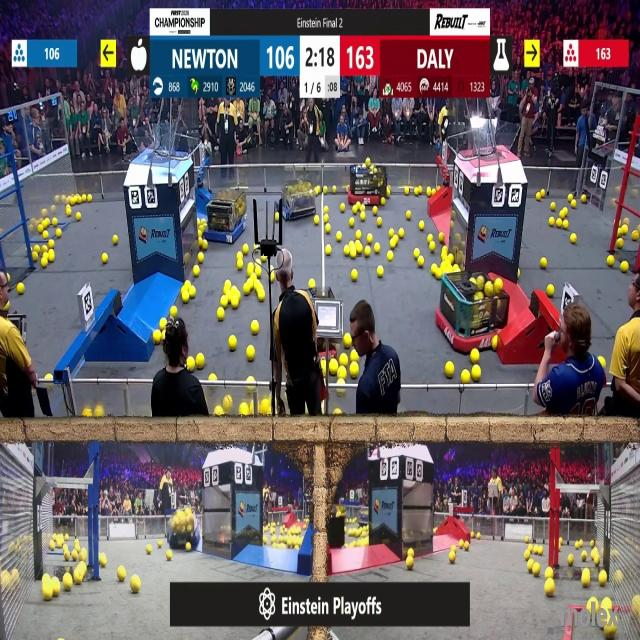ball_ground: (544, 581, 554, 598), (582, 570, 592, 587), (53, 578, 63, 595), (604, 625, 615, 640), (132, 578, 141, 595), (470, 364, 480, 379), (42, 586, 52, 601), (64, 578, 74, 592), (246, 346, 255, 361), (349, 362, 358, 377), (598, 570, 606, 586), (197, 354, 206, 368), (470, 349, 478, 364), (240, 405, 250, 417), (461, 371, 470, 384), (74, 571, 83, 584), (446, 362, 454, 376), (329, 360, 337, 374), (222, 397, 231, 409), (217, 308, 225, 321), (230, 338, 238, 351), (251, 320, 258, 334), (345, 335, 352, 349), (96, 408, 104, 420), (340, 365, 348, 377), (232, 296, 240, 308), (407, 557, 414, 570), (187, 357, 194, 370), (117, 567, 124, 580), (100, 554, 107, 567), (16, 283, 24, 294), (622, 263, 630, 274), (544, 567, 552, 578), (82, 409, 90, 420), (546, 284, 553, 296), (449, 552, 456, 564), (492, 337, 498, 351), (532, 564, 539, 576), (254, 267, 261, 279), (341, 354, 348, 366), (350, 352, 358, 362), (154, 332, 160, 345), (355, 240, 361, 253), (606, 255, 613, 266), (570, 234, 577, 245), (378, 267, 385, 278), (539, 257, 546, 268), (352, 270, 358, 282), (192, 266, 198, 278), (258, 289, 264, 301), (48, 250, 54, 262), (253, 280, 261, 289), (171, 307, 178, 317), (618, 239, 625, 249), (244, 284, 251, 294), (363, 246, 370, 256), (188, 287, 195, 297), (220, 296, 227, 306), (556, 217, 563, 227), (247, 264, 254, 274), (602, 599, 609, 609), (593, 556, 600, 566), (161, 318, 167, 329), (327, 243, 333, 254), (375, 243, 381, 254), (80, 551, 86, 562), (42, 573, 50, 581), (243, 245, 250, 254), (237, 262, 244, 271), (41, 258, 48, 267), (215, 408, 222, 417), (146, 543, 152, 553), (418, 256, 424, 266), (440, 234, 446, 244), (102, 252, 108, 262), (366, 234, 372, 244), (199, 252, 205, 262), (182, 292, 188, 302), (345, 246, 351, 256), (600, 357, 606, 367), (407, 210, 413, 220), (350, 248, 356, 258), (203, 240, 209, 250), (390, 239, 396, 249), (429, 242, 435, 252), (270, 273, 276, 283), (561, 208, 567, 218), (414, 248, 420, 258), (588, 602, 594, 612), (579, 552, 585, 562), (527, 561, 532, 573), (348, 218, 355, 226), (247, 376, 254, 384), (223, 280, 230, 288), (453, 266, 460, 274), (388, 250, 393, 261), (562, 219, 568, 228), (167, 551, 173, 560), (632, 232, 638, 241), (185, 542, 191, 551), (547, 217, 553, 226), (308, 280, 314, 289), (66, 207, 72, 216), (386, 227, 392, 236), (426, 187, 432, 196), (65, 552, 71, 561), (622, 225, 628, 234), (72, 552, 78, 561), (420, 220, 425, 230), (398, 230, 403, 240), (431, 265, 436, 275), (568, 555, 573, 565), (4, 304, 9, 314), (321, 359, 326, 369), (336, 410, 343, 417), (237, 252, 244, 259), (356, 232, 362, 240), (314, 216, 320, 224), (570, 200, 576, 208), (435, 272, 441, 280), (551, 203, 557, 211), (327, 224, 333, 232), (524, 552, 530, 560), (51, 217, 57, 225), (159, 539, 165, 547), (574, 540, 580, 548), (32, 242, 38, 250), (112, 236, 117, 245), (341, 204, 346, 213), (449, 254, 454, 263), (33, 252, 38, 261), (580, 196, 585, 205), (48, 240, 53, 249), (408, 550, 414, 557), (263, 255, 269, 262), (451, 543, 457, 550), (322, 187, 328, 194), (381, 198, 386, 206), (353, 206, 358, 214), (371, 207, 376, 215), (360, 213, 365, 221), (184, 280, 189, 288), (43, 232, 48, 240), (464, 541, 469, 549), (538, 544, 542, 554), (475, 532, 480, 540), (386, 189, 391, 197), (81, 193, 86, 201), (417, 186, 422, 194), (199, 228, 204, 236), (264, 536, 269, 544), (338, 233, 342, 242), (276, 212, 280, 221), (378, 217, 382, 226), (76, 212, 80, 221), (58, 230, 62, 239), (210, 375, 216, 381), (460, 539, 464, 548), (324, 215, 329, 222), (443, 247, 448, 254), (331, 185, 336, 192), (403, 187, 408, 194), (428, 235, 432, 243), (536, 191, 540, 199), (89, 193, 93, 201), (360, 205, 364, 213), (442, 263, 446, 271), (525, 536, 530, 542), (324, 207, 328, 214), (568, 193, 572, 200), (528, 543, 532, 550)
goal: (466, 121, 521, 159), (130, 130, 188, 160)
robot_blue: (204, 188, 246, 245), (279, 178, 315, 222), (168, 510, 200, 551)
robot_red: (438, 273, 507, 354), (346, 161, 387, 205)
